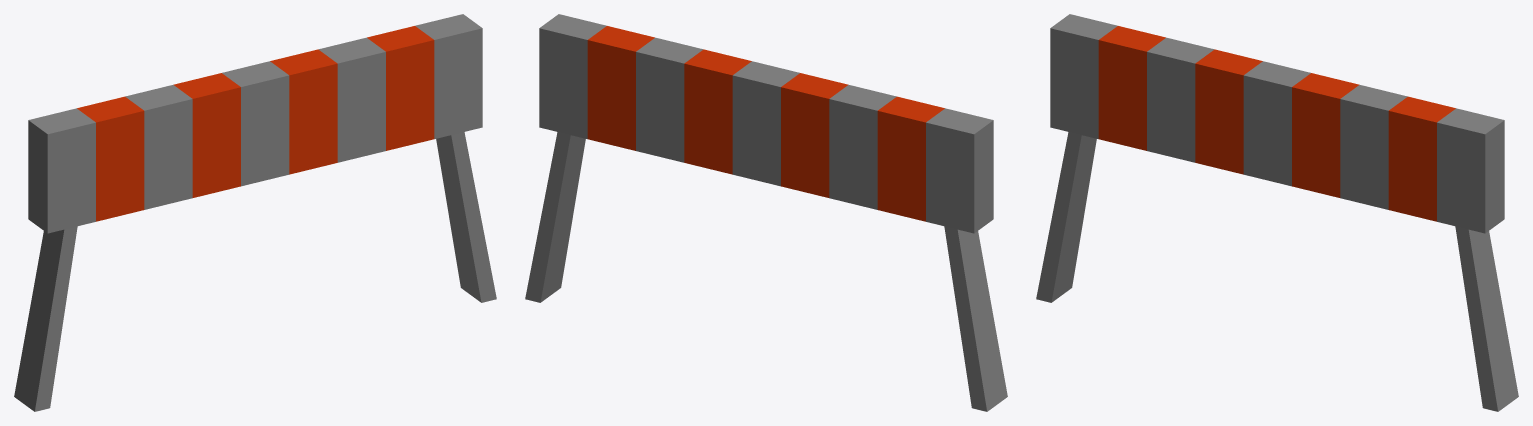
The model's file is RoadWorksBarrierHigh.fbx.
The picture shows the model from 3 angles, left to right: view 1: azimuth 30°, elevation 25°; view 2: azimuth 150°, elevation 25°; view 3: azimuth 330°, elevation 25°; orthographic projection.
Parts seen in each view (by area): view 1: RoadWorksBarrierHigh; view 2: RoadWorksBarrierHigh; view 3: RoadWorksBarrierHigh.
Part boxes in pixels (<box>): RoadWorksBarrierHigh: <box>14,14,496,411</box>; RoadWorksBarrierHigh: <box>525,14,1007,411</box>; RoadWorksBarrierHigh: <box>1036,14,1518,411</box>.
Bounding box in the file's own units: 850 × 481 × 65.88.
